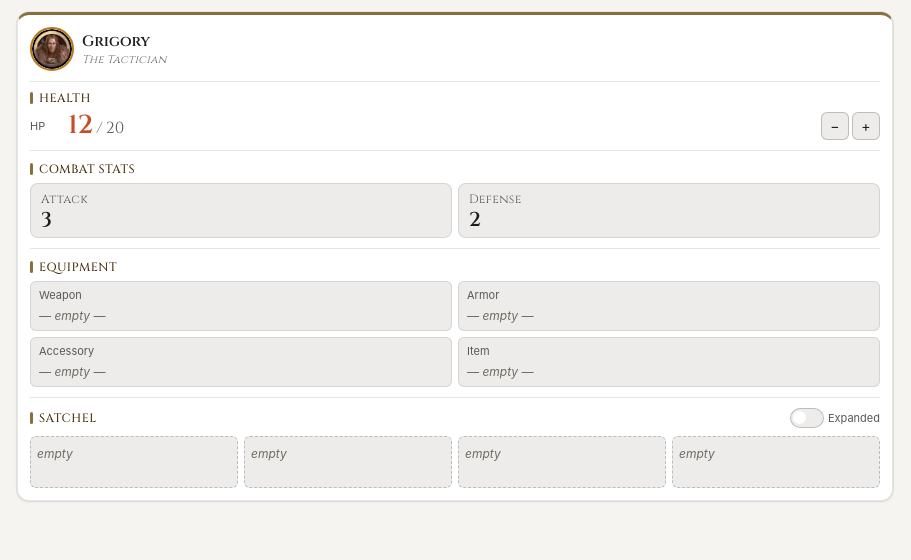
it: GuardPanel talent bonus › hides the stepper until the stat is tapped
Click the button with class "combat-stat-toggle" showing "Attack 3" at point(65, 199), box [41,191,441,230]
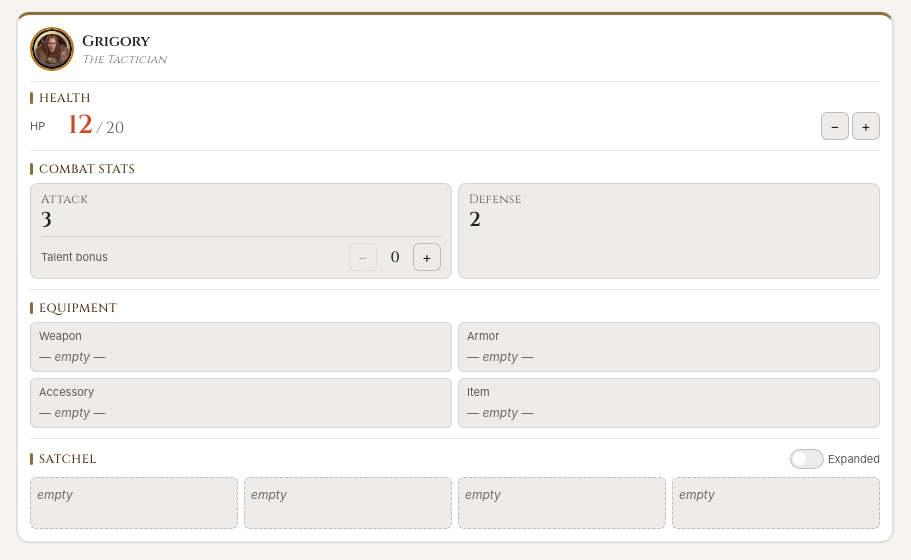
Expected: the element with class "talent-edit-row" is shown, [41,236,441,271]
Click the button with class "combat-stat-toggle" showing "Attack 3" at point(65, 199), box [41,191,441,230]
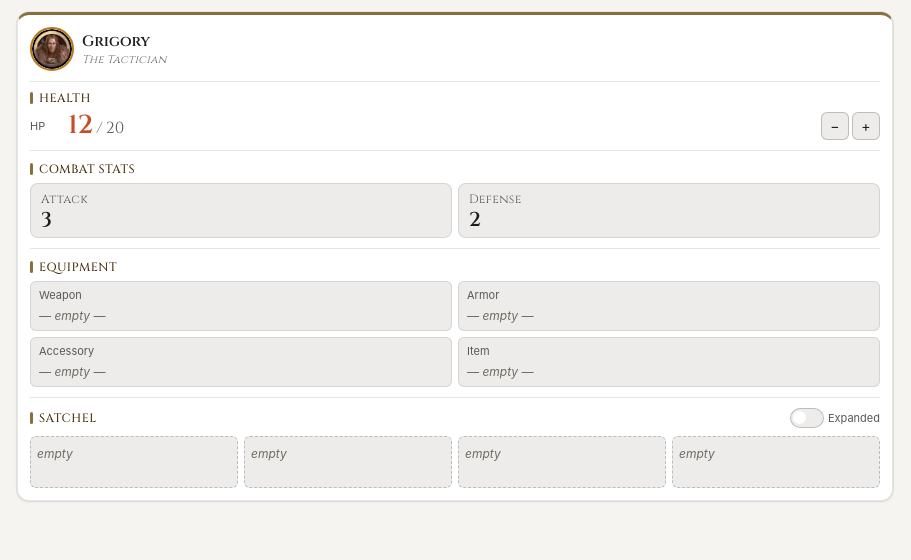
Expected: the element with class "talent-edit-row" is gone
